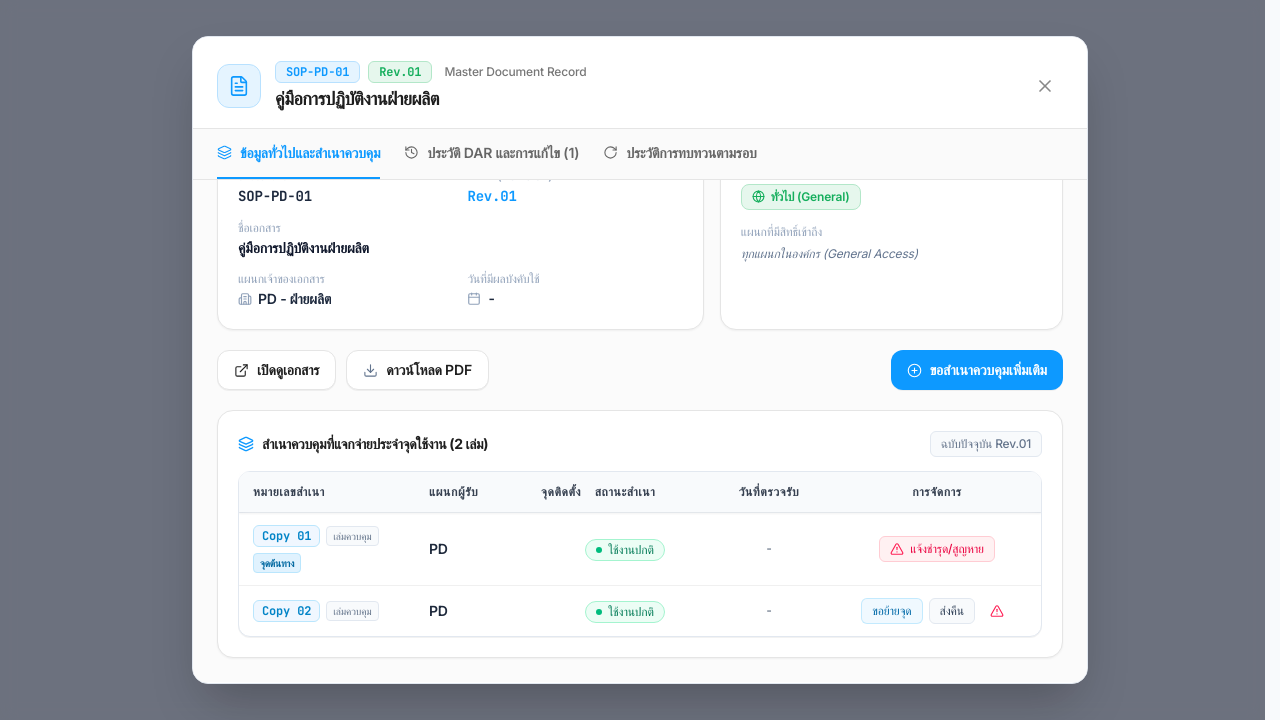
Scenario: Controlled Copy Modern Contextual Action Suite (Direct Action Layout) › 2. Clicking 'ขอย้ายจุด' on Copy 02 directly opens relocation modal
(page scrolled)
Step 1. Click the button "ขอย้ายจุด" → point(892, 611), box top-left (861, 598), bottom-right (922, 624)
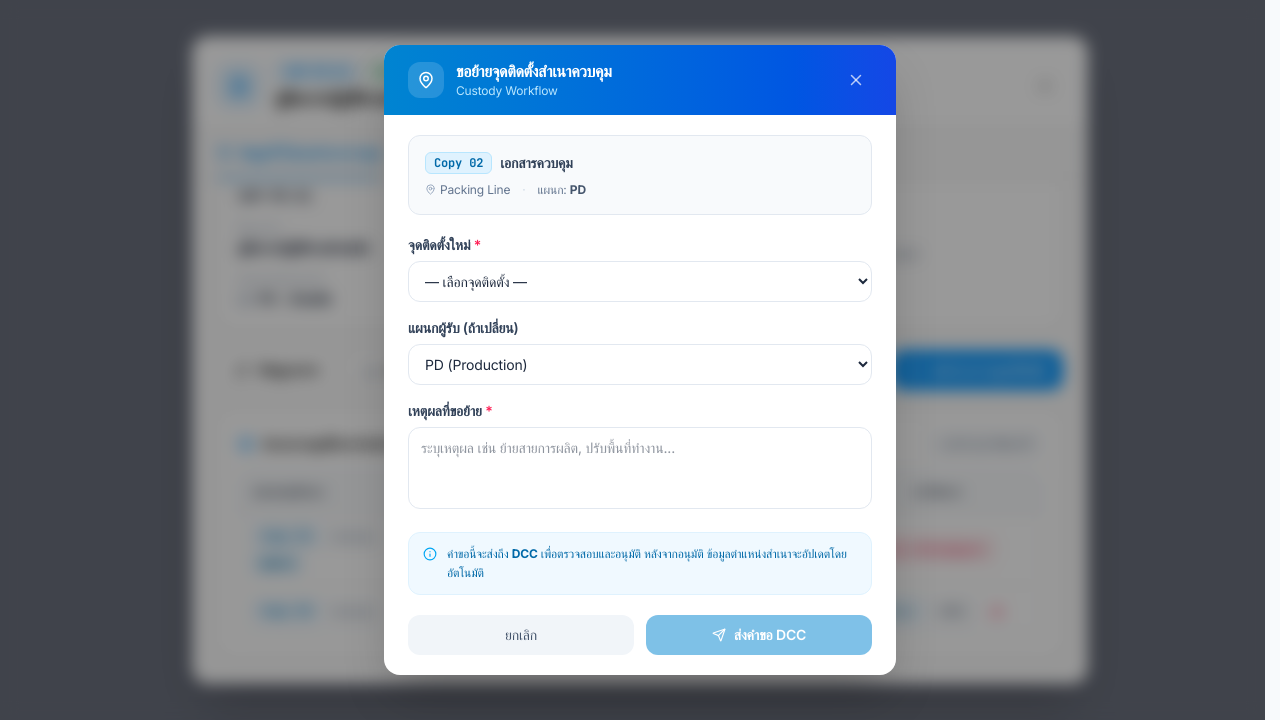
Expected: the heading "ขอย้ายจุดติดตั้งสำเนาควบคุม" is shown, top-left (456, 61), bottom-right (612, 81)
